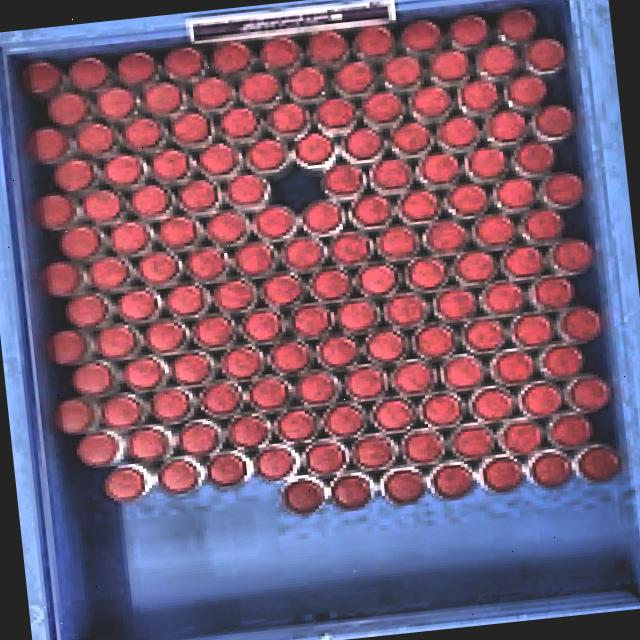vial: (566, 375, 610, 412), (557, 306, 601, 342), (524, 37, 566, 74), (158, 214, 201, 250), (252, 204, 295, 240), (185, 246, 229, 281), (391, 360, 435, 395), (440, 355, 484, 390), (423, 220, 468, 254), (302, 199, 343, 236), (104, 466, 146, 502), (519, 381, 561, 417), (191, 76, 234, 111), (59, 225, 102, 260), (232, 241, 275, 276), (281, 236, 324, 271), (309, 266, 352, 301), (405, 256, 448, 291), (412, 323, 455, 358), (381, 468, 424, 503), (490, 350, 533, 385), (576, 445, 619, 480), (87, 256, 131, 290), (260, 272, 304, 306), (470, 387, 514, 421), (548, 239, 593, 272), (259, 36, 300, 72), (448, 14, 489, 50), (506, 73, 547, 109), (164, 46, 206, 81), (211, 41, 253, 76), (476, 43, 518, 78), (317, 333, 359, 368), (370, 158, 413, 192), (207, 211, 250, 245), (137, 251, 180, 285), (66, 293, 109, 327), (453, 250, 496, 284), (384, 293, 427, 327), (200, 382, 243, 416), (48, 91, 88, 127), (543, 172, 583, 208), (306, 31, 347, 66), (496, 7, 537, 42), (459, 77, 500, 112), (109, 220, 150, 255), (399, 188, 440, 223), (54, 398, 95, 433), (365, 328, 406, 363), (331, 473, 372, 508), (238, 72, 280, 106), (53, 158, 95, 192), (197, 142, 239, 176), (246, 138, 288, 172), (82, 189, 124, 223), (96, 324, 138, 358), (356, 262, 398, 296), (248, 376, 290, 410), (372, 397, 414, 431), (401, 429, 443, 463), (520, 208, 563, 241), (481, 281, 524, 314), (220, 345, 263, 378), (511, 313, 554, 346), (419, 393, 462, 426), (27, 127, 67, 162), (429, 48, 469, 83), (48, 330, 88, 365), (77, 432, 117, 467), (228, 413, 268, 448), (116, 51, 157, 85), (102, 153, 143, 187), (400, 19, 441, 53), (377, 226, 418, 260), (150, 388, 191, 422), (323, 403, 364, 437), (431, 464, 472, 498), (353, 26, 395, 59), (165, 283, 207, 316), (213, 278, 255, 311), (72, 362, 114, 395), (275, 409, 317, 442), (462, 318, 504, 351), (225, 174, 268, 206), (37, 194, 75, 230), (267, 101, 306, 136), (44, 261, 83, 296), (482, 456, 521, 491), (142, 81, 182, 115), (177, 179, 217, 213), (434, 287, 474, 321), (123, 356, 163, 390), (171, 351, 211, 385), (270, 339, 310, 373), (129, 426, 169, 460), (207, 452, 247, 486), (345, 365, 385, 399), (283, 479, 323, 513), (68, 57, 109, 90), (219, 106, 260, 139), (410, 85, 451, 118), (534, 105, 575, 138), (466, 146, 507, 179), (118, 288, 159, 321), (242, 310, 283, 343), (291, 304, 332, 337), (351, 194, 392, 227), (295, 371, 336, 404), (541, 345, 582, 378), (437, 115, 479, 147), (502, 245, 544, 277), (532, 276, 574, 308), (122, 116, 161, 150), (335, 61, 374, 95), (363, 90, 402, 124), (392, 121, 431, 155), (255, 445, 294, 479), (286, 67, 326, 100), (315, 97, 355, 130), (324, 163, 364, 196), (382, 55, 422, 88), (447, 183, 487, 216), (331, 232, 371, 265), (337, 299, 377, 332), (178, 422, 218, 455), (159, 460, 199, 493), (305, 441, 345, 474), (452, 425, 492, 458), (550, 414, 590, 447), (484, 110, 525, 142), (144, 320, 185, 352), (474, 214, 515, 246), (76, 122, 114, 156), (532, 452, 570, 486), (150, 148, 189, 181), (130, 184, 169, 217), (353, 435, 392, 468), (495, 177, 535, 209), (101, 395, 141, 427), (501, 421, 541, 453), (193, 316, 234, 347), (25, 61, 62, 95), (419, 152, 458, 184), (515, 140, 554, 172), (96, 87, 134, 119), (172, 112, 210, 144), (295, 133, 333, 165), (345, 128, 382, 159)
